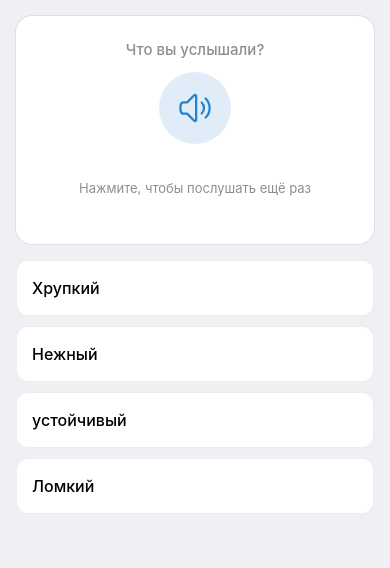
Scenario: AudioCard › a right pick reveals the word, grades 4 at once, moves on after the pause and has no button to press
The image size is (390, 568).
Click the button with test id "option-2" at [79, 420], box [16,392,374,448]
Wait 700 ms
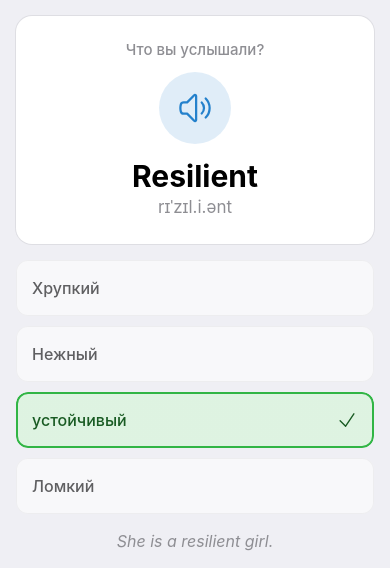
Now the heading with test id "word" reads "Resilient", box [132,158,258,194]
Now the text with test id "transcription" reads "rɪˈzɪl.i.ənt", box [158,197,232,217]
